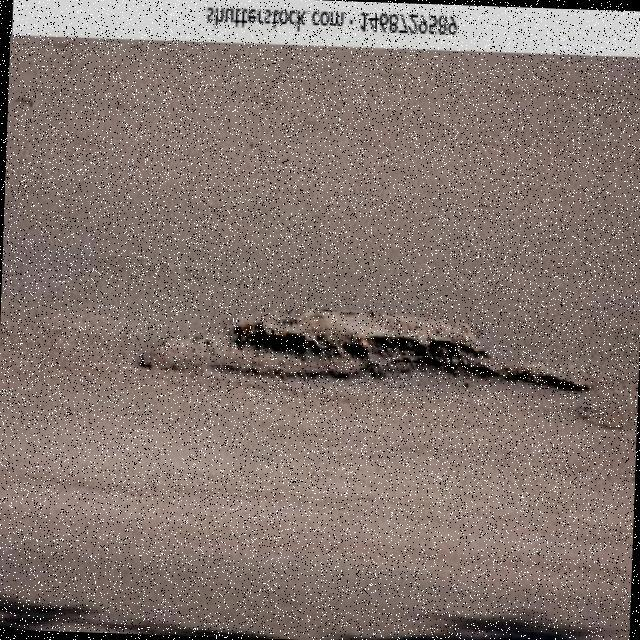Pothole: (144, 308, 590, 391)
